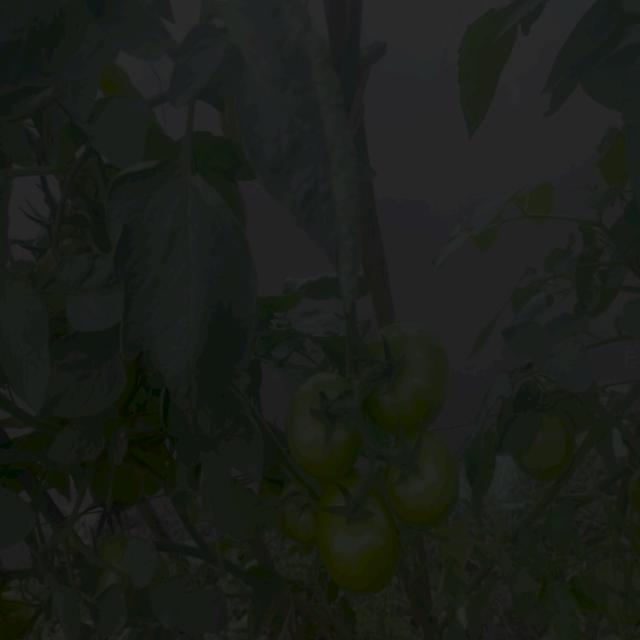tomato: (318, 485, 405, 590), (367, 323, 449, 427), (385, 425, 464, 529), (290, 370, 364, 481), (527, 417, 574, 485), (99, 531, 127, 569), (628, 470, 640, 504)
